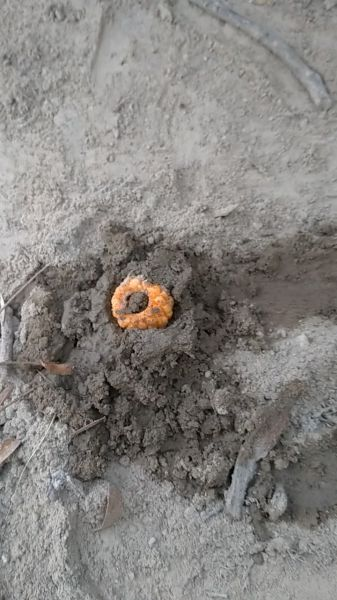eggs: (105, 271, 184, 339)
